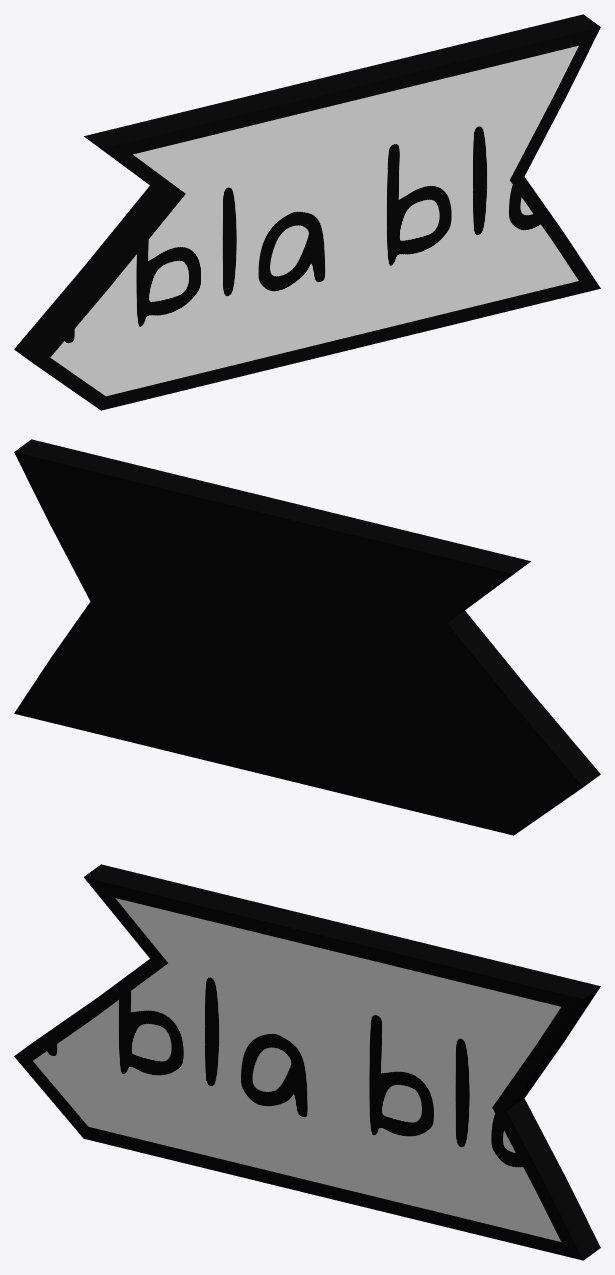
Rendered from mdl_poland_poempieces_15.gltf.
3 renders of one model, top to bottom at view 1: azimuth 30°, elevation 25°; view 2: azimuth 150°, elevation 25°; view 3: azimuth 330°, elevation 25°, orthographic.
Parts seen in each view (by area): view 1: Plane.017; view 2: Plane.017; view 3: Plane.017.
Boxes of the visible parts, x1,y1,x2,y2 form: Plane.017: (14,14,600,410); Plane.017: (14,439,600,835); Plane.017: (14,864,600,1260).
Size of the model in its own units: 0.5696 by 0.25 by 0.0304.
Materials: 2 (2 with a texture image).
